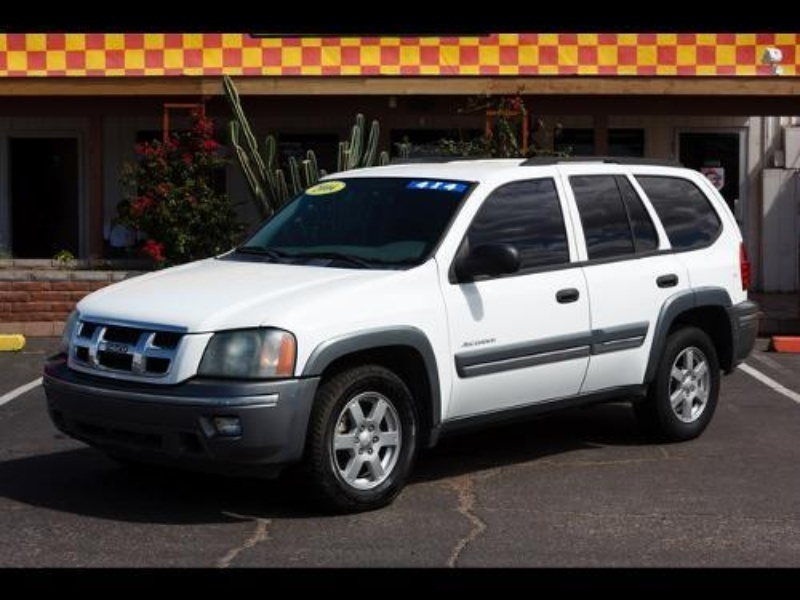normalcar: (16, 117, 800, 519)
